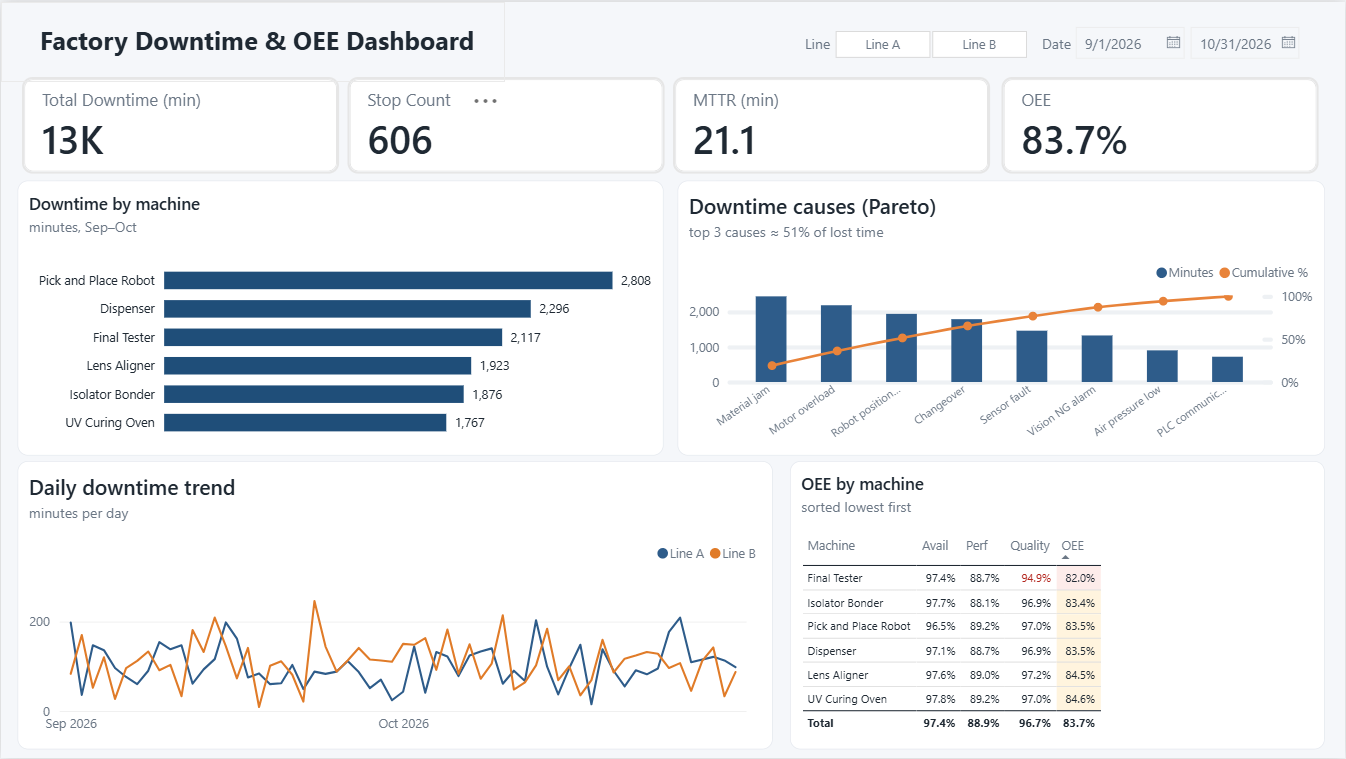

This screenshot's page, from the dashboard's own definition file:
{"tool":"powerbi","page":{"name":"Page 1","canvas":[1280,720],"ordinal":0},"visuals":[{"type":"cardVisual","fields":{"Data":["downtime_log.Total Downtime (min)"]},"box":[20,72,302,92],"z":0},{"type":"cardVisual","fields":{"Data":["downtime_log.Stop Count"]},"box":[330,71.7,302,92],"z":1000},{"type":"cardVisual","fields":{"Data":["downtime_log.MTTR (min)"]},"box":[640,71.7,302,92],"z":2000},{"type":"barChart","title":"Downtime by machine","fields":{"Category":["machine.machine_name"],"Y":["downtime_log.Total Downtime (min)"]},"box":[16.2,170.3,615,262],"z":3000},{"type":"lineClusteredColumnComboChart","title":"Downtime causes (Pareto)","fields":{"Category":["downtime_log.cause"],"Y":["downtime_log.Total Downtime (min)"],"Y2":["downtime_log.Pareto Cumulative %"]},"box":[644.8,170.3,616.4,262.2],"z":4000},{"type":"lineChart","title":"Daily downtime trend","fields":{"Category":["downtime_log.prod_date"],"Series":["machine.line"],"Y":["downtime_log.Total Downtime (min)"]},"box":[16.2,436.6,719.1,274.4],"z":5000},{"type":"tableEx","title":"OEE by machine","fields":{"Values":["machine.machine_name","production_log.Availability","production_log.Performance","production_log.Quality","production_log.OEE"]},"box":[751.6,436.6,509.6,274.4],"z":6000},{"type":"slicer","fields":{"Values":["Calendar.Date"]},"box":[1005.7,8.6,254,66],"z":7000},{"type":"slicer","title":"Line","fields":{"Values":["machine.line"]},"box":[755.7,5.7,250,55],"z":8000},{"type":"textbox","box":[0,0,480,75],"z":9000},{"type":"textbox","box":[755.7,20,65.7,41.4],"z":10000},{"type":"textbox","box":[981.4,20,60,41.4],"z":11000},{"type":"cardVisual","fields":{"Data":["production_log.OEE"]},"box":[953,71.6,302,92],"z":12000}]}

Visuals, with their boxes in screenshot pixels (x1, y1, x2, y2), scaled from the page's 1280x720 canvas onto the 1346x759 screenshot:
cardVisual - downtime_log.Total Downtime (min): 21 76 339 173
cardVisual - downtime_log.Stop Count: 347 76 665 173
cardVisual - downtime_log.MTTR (min): 673 76 991 173
"Downtime by machine" barChart: 17 180 664 456
"Downtime causes (Pareto)" lineClusteredColumnComboChart: 678 180 1326 456
"Daily downtime trend" lineChart: 17 460 773 750
"OEE by machine" tableEx: 790 460 1326 750
slicer - Calendar.Date: 1058 9 1325 79
"Line" slicer: 795 6 1058 64
textbox: 0 0 505 79
textbox: 795 21 864 65
textbox: 1032 21 1095 65
cardVisual - production_log.OEE: 1002 75 1320 172
